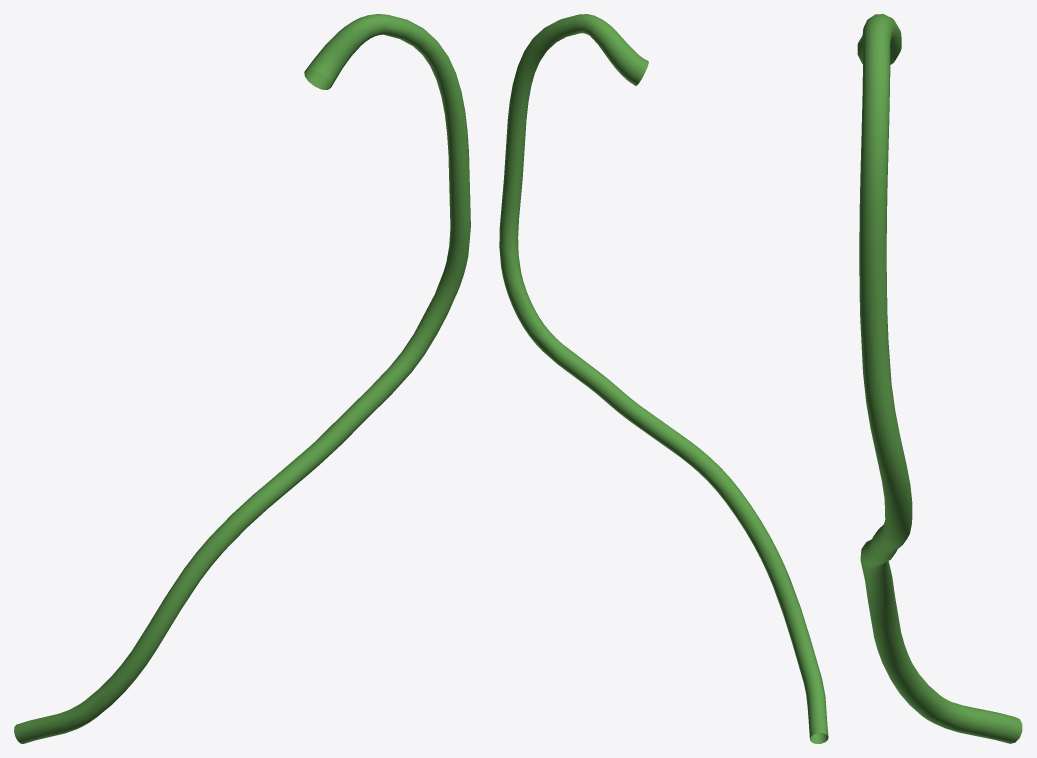
The model's file is visceras-bile-duct.glb.
The picture shows the model from 3 angles, left to right: view 1: azimuth 30°, elevation 25°; view 2: azimuth 150°, elevation 25°; view 3: azimuth 270°, elevation 25°; orthographic projection. The views are drawn at different scales.
Visible parts, largest first — view 1: Bile duct; view 2: Bile duct; view 3: Bile duct.
Boxes of the visible parts, left/top/right/bottom form: Bile duct: left=14, top=14, right=470, bottom=743; Bile duct: left=499, top=14, right=828, bottom=743; Bile duct: left=857, top=14, right=1022, bottom=743.
Size of the model in its own units: 0.0452 by 0.0734 by 0.012.
